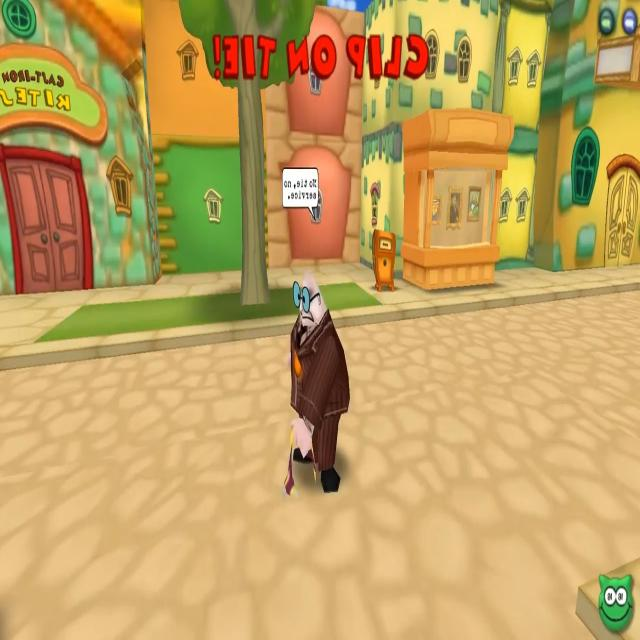flunky: (276, 167, 353, 499)
